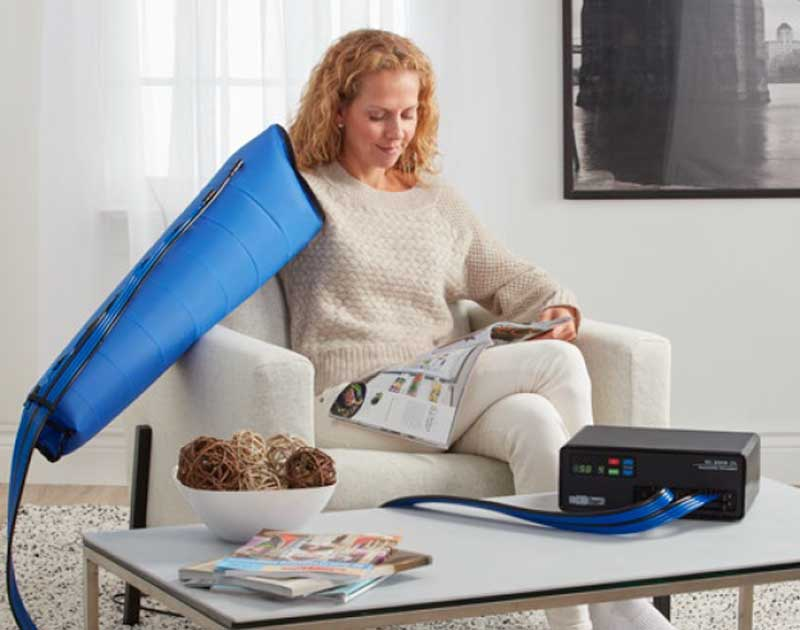patient: (130, 28, 673, 628)
sequential_compression: (4, 125, 760, 628)
sofa: (136, 199, 671, 558)
table: (82, 474, 800, 630)
